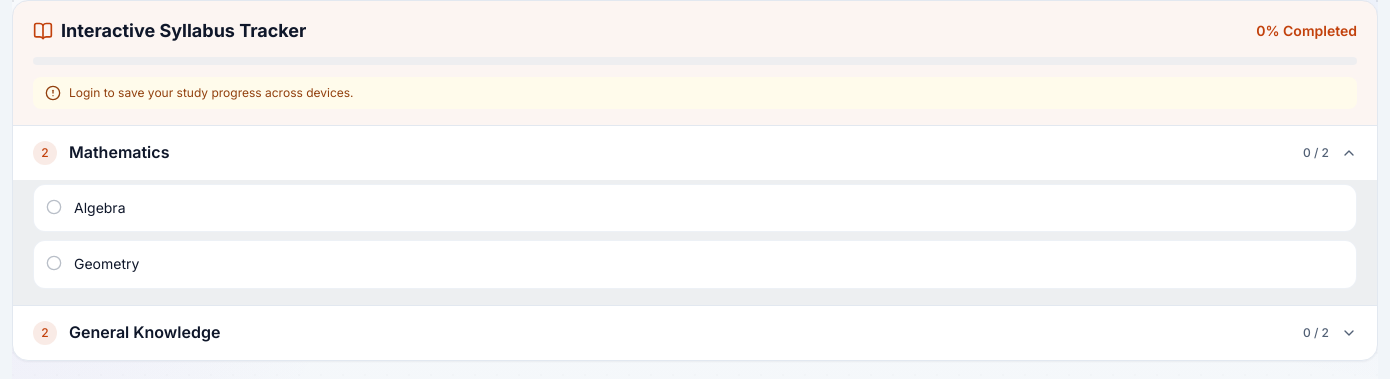
Test: InteractiveSyllabus › updates offline progress if not authenticated
The image size is (1390, 379).
Step 1. Click the button "Algebra" → click(100, 207), box 33,184 -> 1357,232
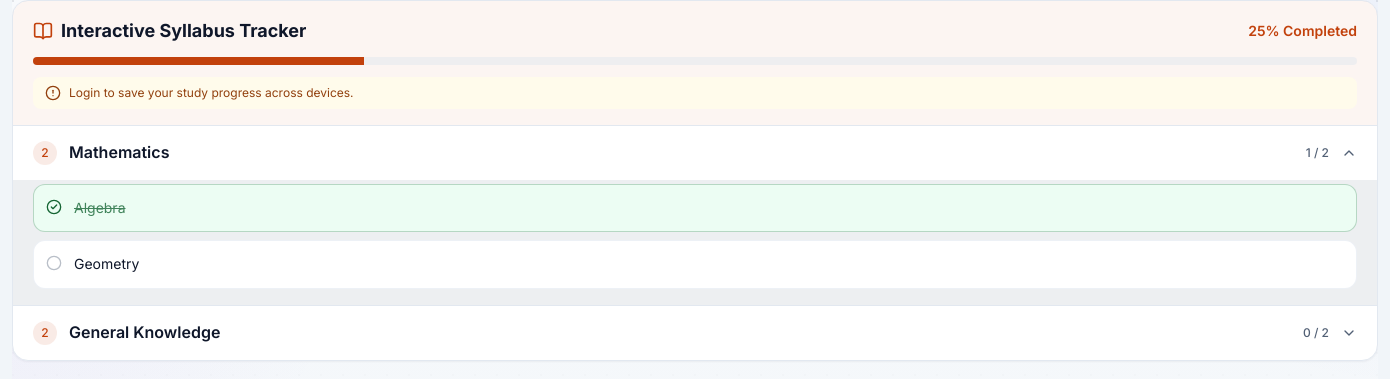
Check: the text "25% Completed" is shown, box 1248,21 -> 1357,41
